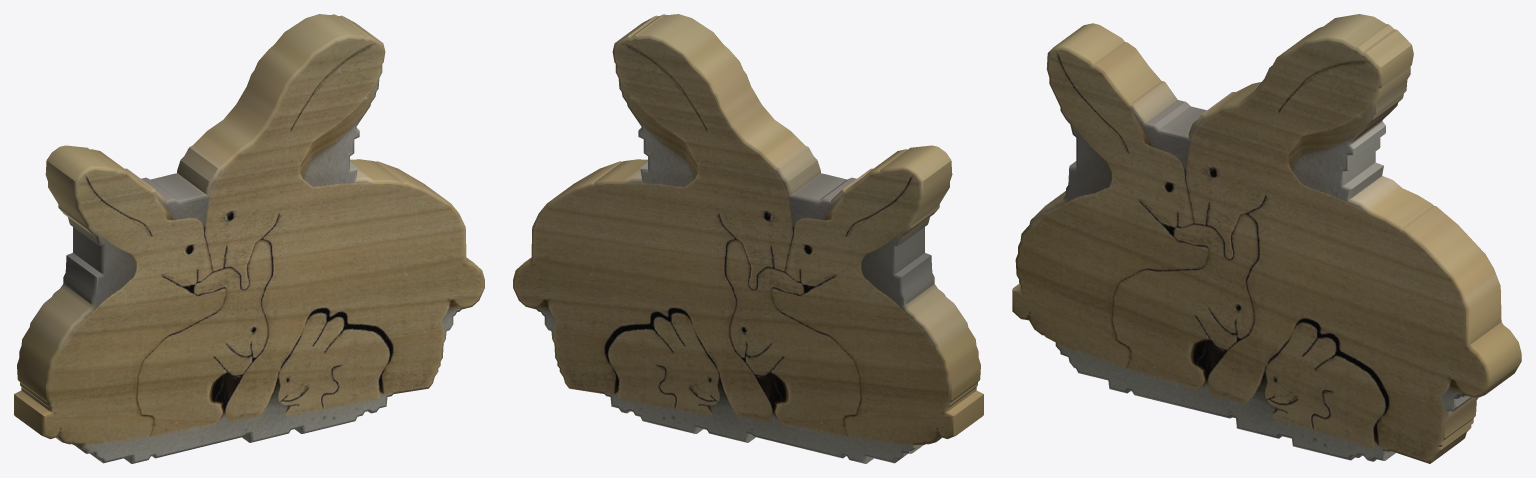
Rendered from bunny-families.glb.
The picture shows the model from 3 angles, left to right: view 1: azimuth 30°, elevation 25°; view 2: azimuth 150°, elevation 25°; view 3: azimuth 330°, elevation 25°; orthographic projection. The views are drawn at different scales.
Parts seen in each view (by area): view 1: Bunny family puzzle; view 2: Bunny family puzzle; view 3: Bunny family puzzle.
Part boxes in pixels (bbox=[...]): Bunny family puzzle: bbox=[14, 14, 484, 463]; Bunny family puzzle: bbox=[513, 14, 983, 463]; Bunny family puzzle: bbox=[1012, 14, 1521, 463].
Bounding box in the file's own units: 0.1785 × 0.1497 × 0.0214.
Materials: 1 (1 with a texture image).
